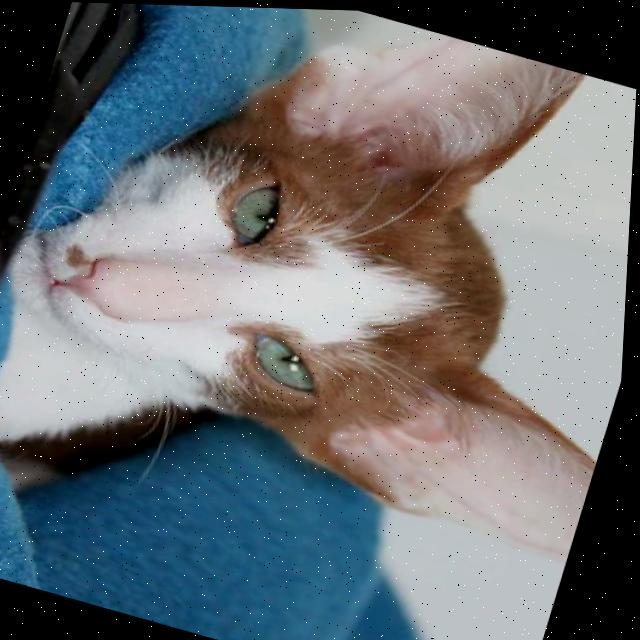Oriental: (0, 0, 640, 605)
